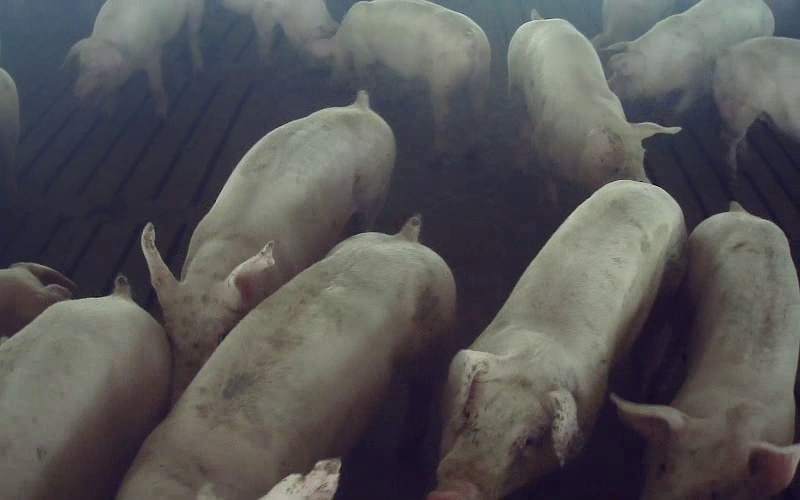pig: (118, 220, 454, 499), (431, 181, 685, 499), (142, 91, 394, 398), (613, 201, 799, 499), (0, 276, 170, 499), (508, 10, 679, 205), (309, 0, 490, 158), (66, 0, 202, 116), (713, 37, 799, 176)
